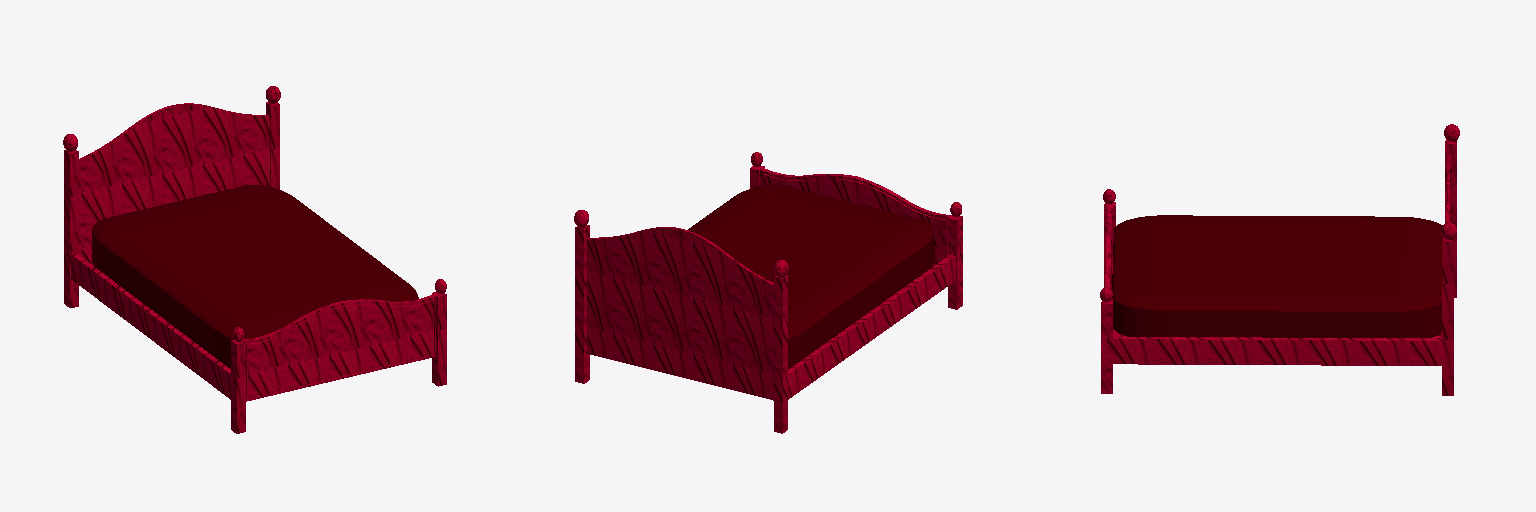
3 views of the same model, side by side, from view 1: azimuth 30°, elevation 25°; view 2: azimuth 150°, elevation 25°; view 3: azimuth 270°, elevation 25° (orthographic).
Parts seen in each view (by area): view 1: Layer0_001, Group_001; view 2: Layer0_001, Group_001; view 3: Group_001, Layer0_001.
Part boxes in pixels (left/top/right/bottom): Layer0_001: left=63, top=86, right=446, bottom=433; Group_001: left=92, top=185, right=418, bottom=368; Layer0_001: left=574, top=152, right=962, bottom=433; Group_001: left=688, top=185, right=933, bottom=368; Group_001: left=1112, top=215, right=1442, bottom=337; Layer0_001: left=1100, top=124, right=1459, bottom=395.
Bounding box in the file's own units: 31.9 × 24.78 × 45.98.
1 materials, 1 textured.